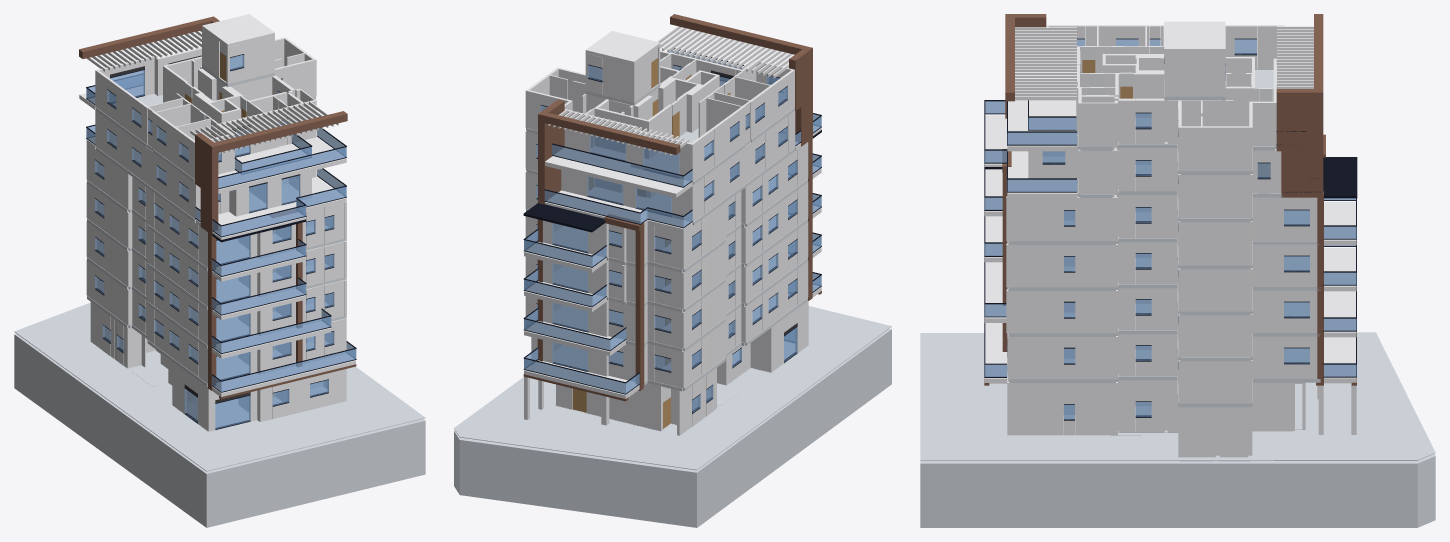
Rendered from yatkovski7_model.obj.
3 renders of one model, left to right at view 1: azimuth 30°, elevation 25°; view 2: azimuth 150°, elevation 25°; view 3: azimuth 270°, elevation 25°, orthographic. The views are drawn at different scales.
Parts seen in each view (by area): view 1: ext_white, slab_floor, glass_blue, bronze_portal, alu_dark, int_wall; view 2: ext_white, slab_floor, glass_blue, bronze_portal, alu_dark, oak_furn, int_wall; view 3: ext_white, slab_floor, glass_blue, bronze_portal, alu_dark, int_wall.
Part boxes in pixels (bbox=[...]): ext_white: bbox=[79, 14, 355, 431]; slab_floor: bbox=[14, 57, 425, 527]; glass_blue: bbox=[86, 54, 356, 429]; bronze_portal: bbox=[79, 16, 356, 399]; alu_dark: bbox=[86, 54, 356, 429]; int_wall: bbox=[183, 42, 285, 132]; ext_white: bbox=[524, 26, 821, 435]; slab_floor: bbox=[454, 84, 891, 527]; glass_blue: bbox=[524, 49, 821, 413]; bronze_portal: bbox=[523, 14, 821, 401]; alu_dark: bbox=[523, 48, 821, 413]; oak_furn: bbox=[572, 58, 730, 428]; int_wall: bbox=[585, 48, 742, 402]; ext_white: bbox=[984, 21, 1356, 457]; slab_floor: bbox=[920, 68, 1435, 527]; glass_blue: bbox=[984, 39, 1356, 419]; bronze_portal: bbox=[984, 14, 1356, 385]; alu_dark: bbox=[984, 38, 1357, 420]; int_wall: bbox=[1082, 46, 1271, 101].
Bounding box in the file's own units: 18.79 × 30.89 × 31.99.
